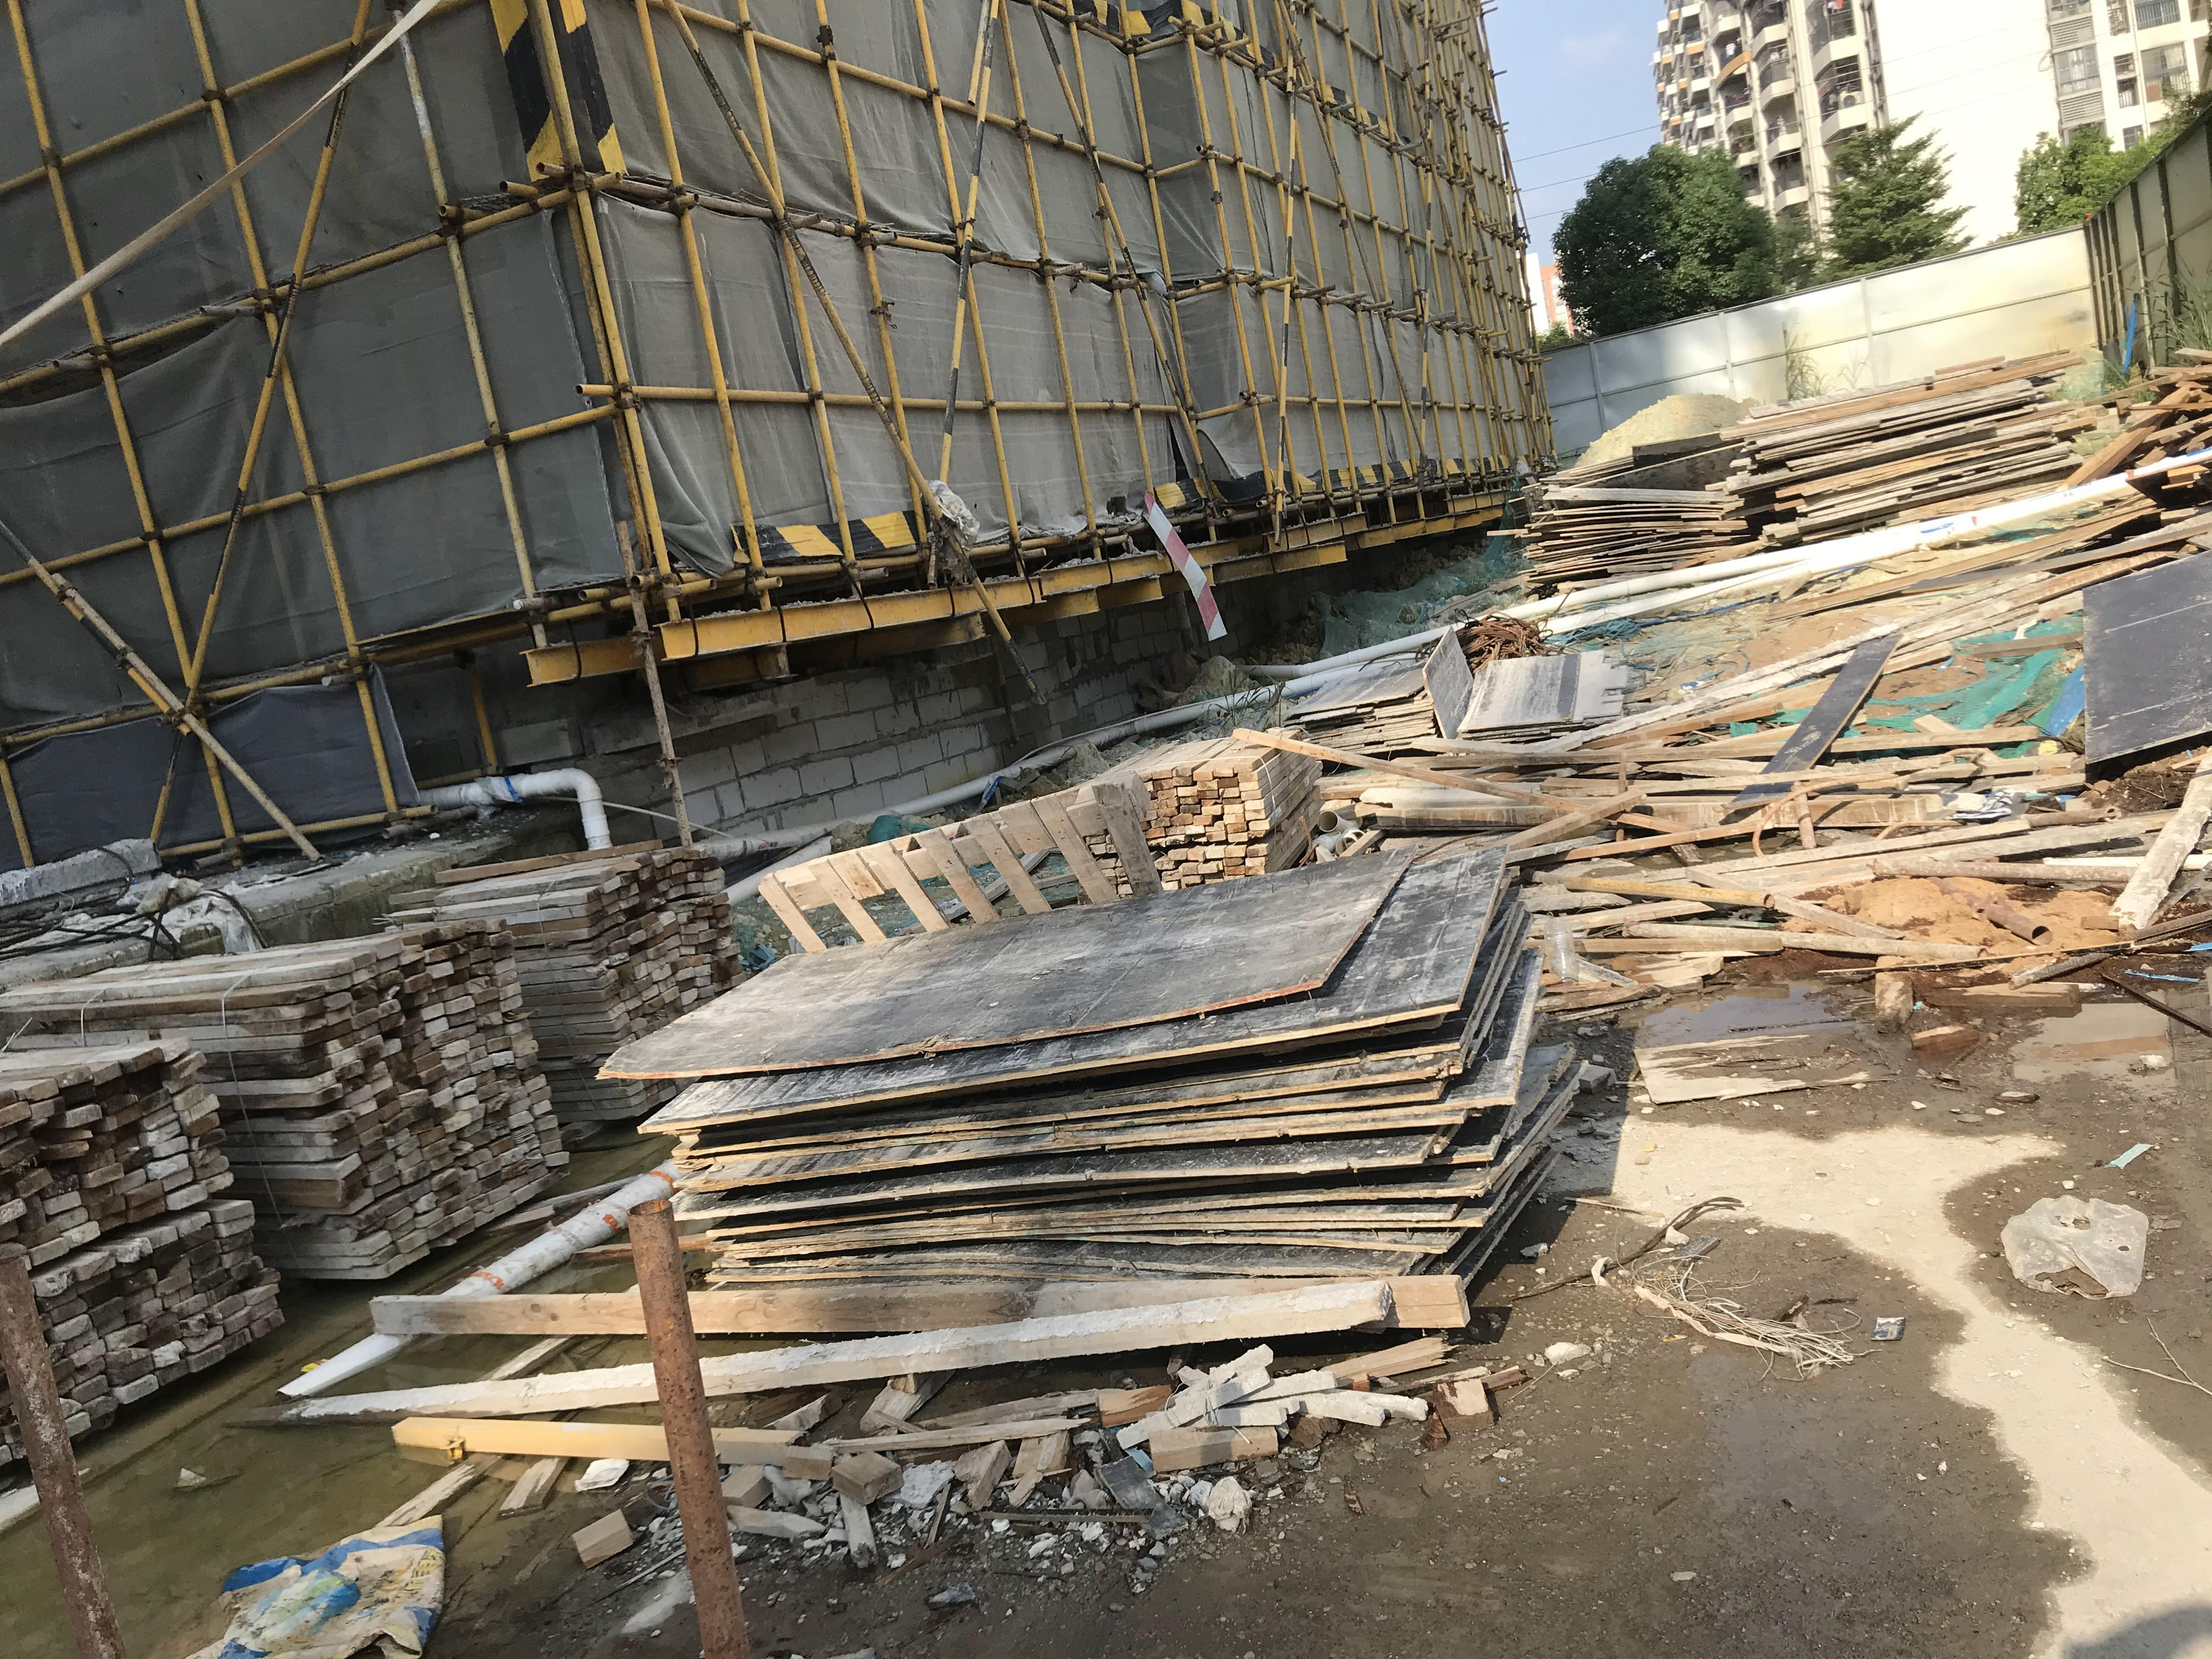board: (599, 831, 1595, 1319), (1719, 354, 2101, 511), (1515, 443, 1763, 592)
wood: (0, 943, 514, 1208), (0, 1032, 307, 1457), (455, 816, 759, 1180), (1113, 706, 1334, 890)
